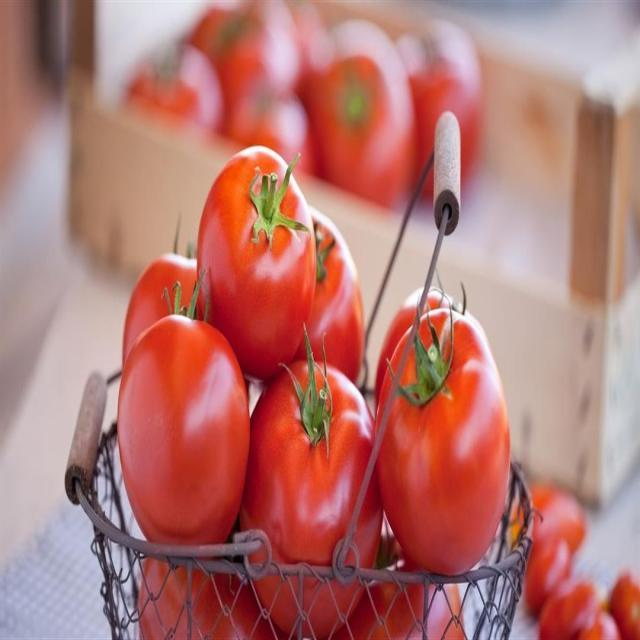kirmizi: (82, 144, 528, 560)
